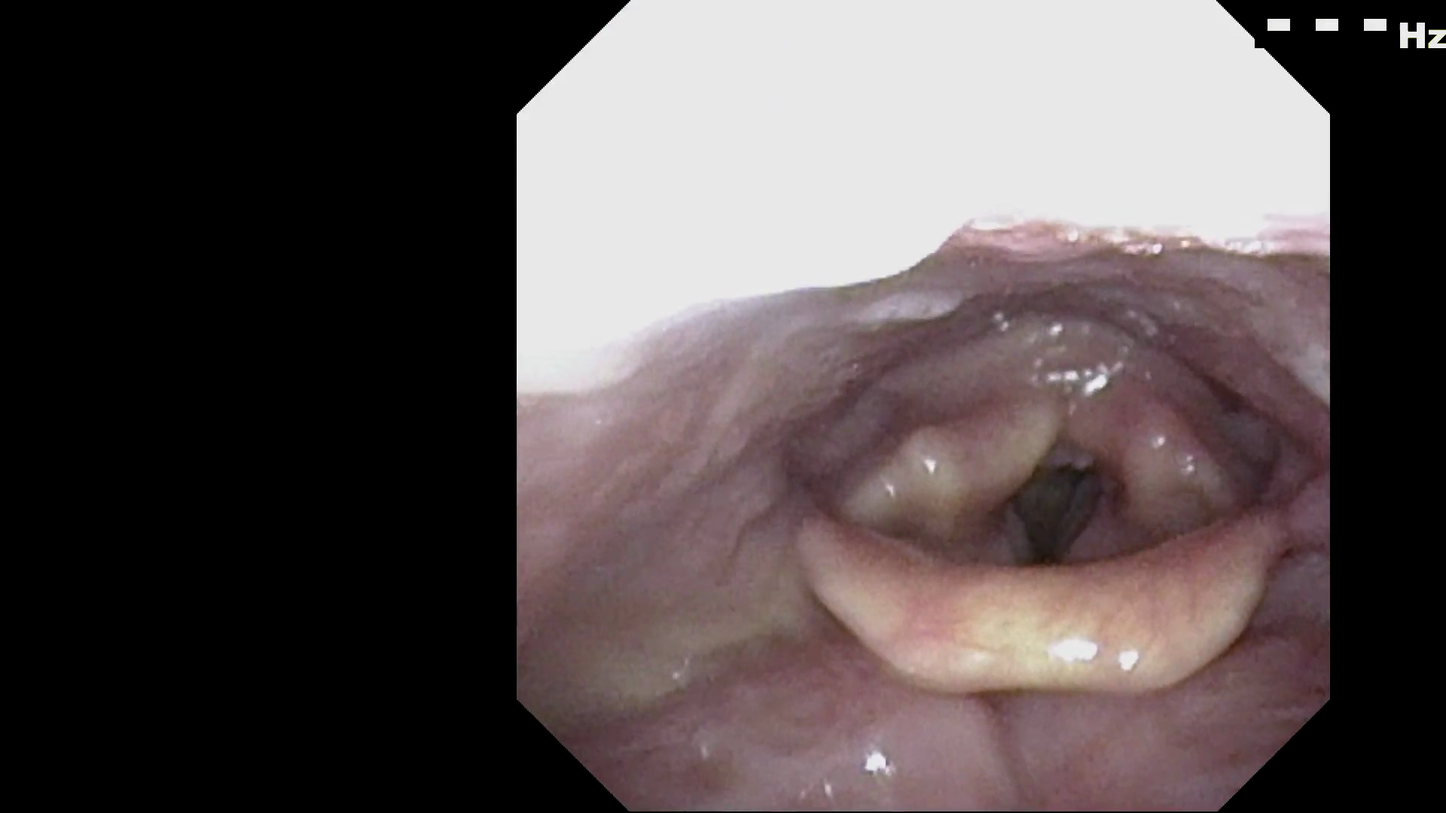epiglottis: (779, 469, 1304, 708)
trachea: (978, 411, 1125, 565)
